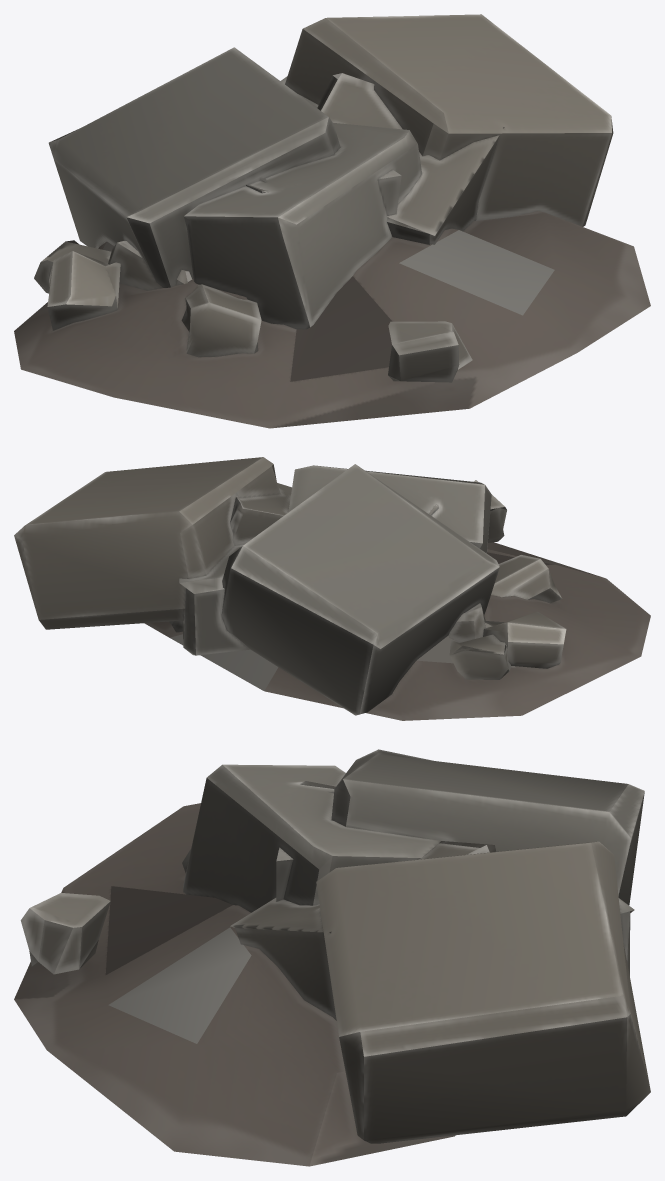
The model's file is gallows_rubble.glb.
3 views of the same model, one above another, from view 1: azimuth 30°, elevation 25°; view 2: azimuth 150°, elevation 25°; view 3: azimuth 270°, elevation 25° (orthographic). The views are drawn at different scales.
Parts seen in each view (by area): view 1: gallows_rubble; view 2: gallows_rubble; view 3: gallows_rubble.
Part boxes in pixels (box(x1,y1,x2,y2)): gallows_rubble: box(14, 14, 650, 428); gallows_rubble: box(14, 457, 650, 720); gallows_rubble: box(14, 749, 650, 1166).
Bounding box in the file's own units: 1.69 × 0.5174 × 1.29.
1 material, 1 textured.
